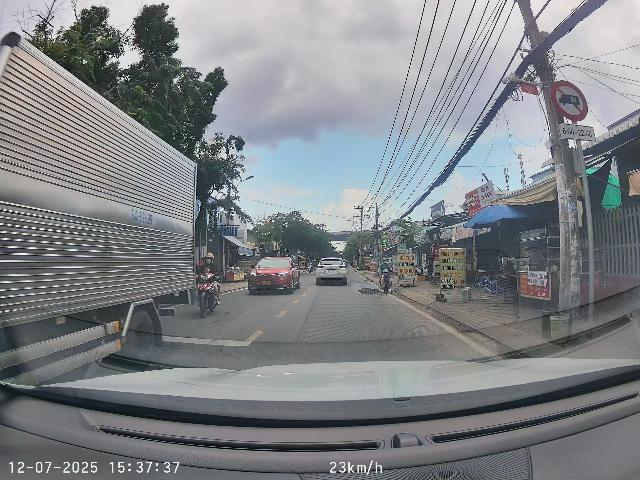106-cam-oto-tai: (551, 80, 588, 121)
